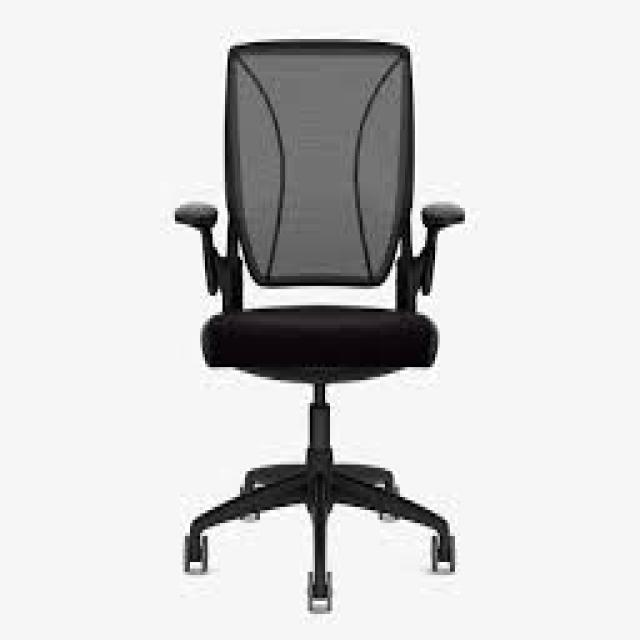chair: (124, 34, 495, 640)
